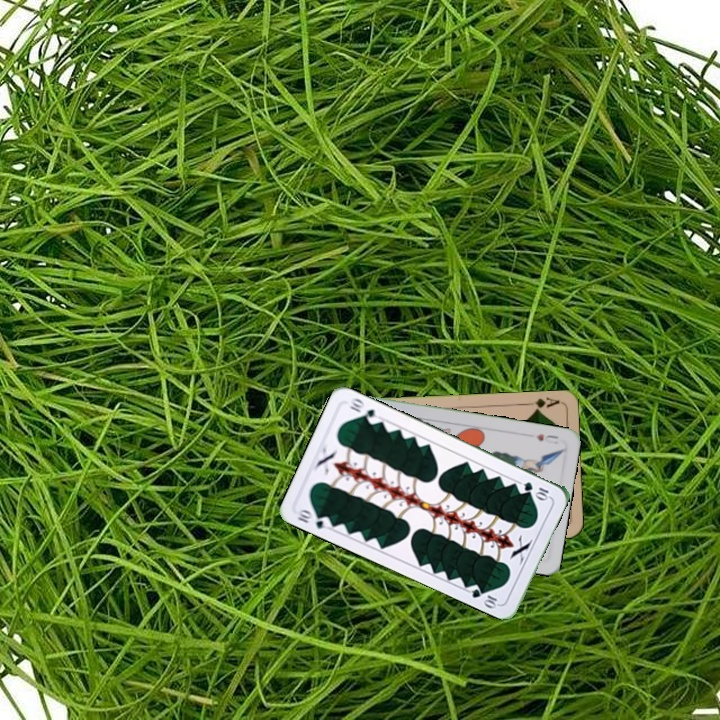G10: (293, 505, 334, 531), (520, 477, 552, 502)
GA: (521, 394, 562, 414)
HU: (532, 430, 561, 446)
